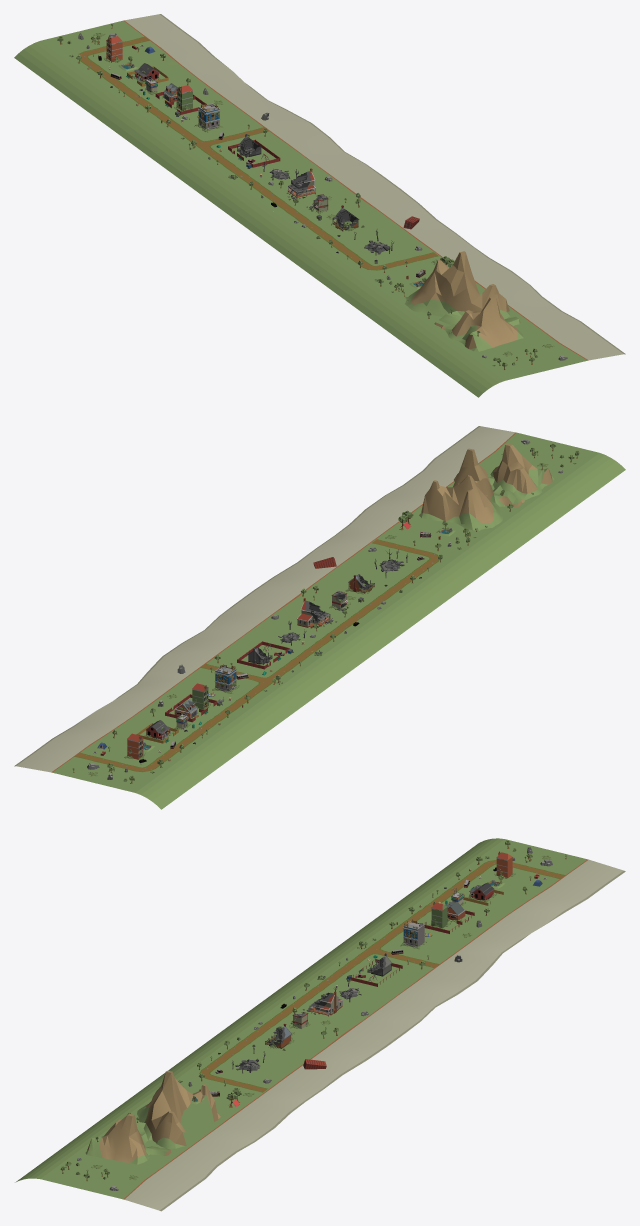
File: _lvl_beach_bg_4.glb
The picture shows the model from 3 angles, top to bottom: view 1: azimuth 30°, elevation 25°; view 2: azimuth 150°, elevation 25°; view 3: azimuth 330°, elevation 25°; orthographic projection.
Visible parts, largest first — view 1: bg_ground_4, bg_near_plane_beach (3), SM_Env_Hills_05_Desert, SF_Env_Road_Full_2, SA_Bld_House_Damaged_02; view 2: bg_ground_4, bg_near_plane_beach (3), SM_Env_Hills_05_Desert, SF_Env_Road_Full_2, SA_Bld_House_Damaged_02; view 3: bg_ground_4, bg_near_plane_beach (3), SM_Env_Hills_05_Desert, SF_Env_Road_Full_2, SA_Bld_House_Damaged_02.
Boxes of the visible parts, bbox=[...] form: bg_ground_4: bbox=[40, 14, 625, 380]; bg_near_plane_beach (3): bbox=[14, 41, 504, 397]; SM_Env_Hills_05_Desert: bbox=[405, 251, 523, 351]; SF_Env_Road_Full_2: bbox=[78, 36, 438, 270]; SA_Bld_House_Damaged_02: bbox=[286, 168, 315, 200]; bg_ground_4: bbox=[14, 426, 599, 792]; bg_near_plane_beach (3): bbox=[135, 453, 625, 809]; SM_Env_Hills_05_Desert: bbox=[419, 443, 554, 530]; SF_Env_Road_Full_2: bbox=[74, 539, 439, 772]; SA_Bld_House_Damaged_02: bbox=[297, 598, 336, 628]; bg_ground_4: bbox=[40, 839, 625, 1211]; bg_near_plane_beach (3): bbox=[15, 838, 504, 1182]; SM_Env_Hills_05_Desert: bbox=[85, 1070, 220, 1164]; SF_Env_Road_Full_2: bbox=[199, 860, 565, 1092]; SA_Bld_House_Damaged_02: bbox=[303, 991, 342, 1016].
Size of the model in its own units: 83.12 by 35.23 by 450.
1 material, 1 textured.
